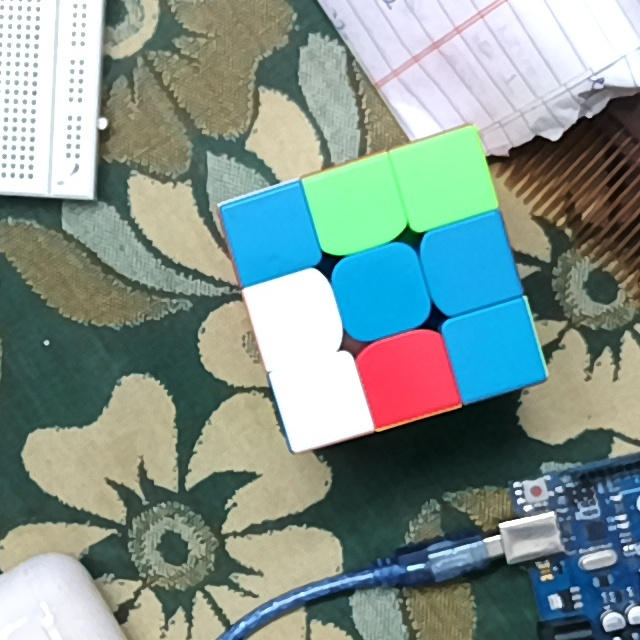tile: (435, 235, 505, 300), (347, 262, 417, 327), (321, 175, 392, 239), (409, 148, 479, 212), (240, 202, 303, 272), (458, 320, 529, 381), (263, 287, 329, 350), (376, 345, 443, 406), (290, 372, 356, 431)
